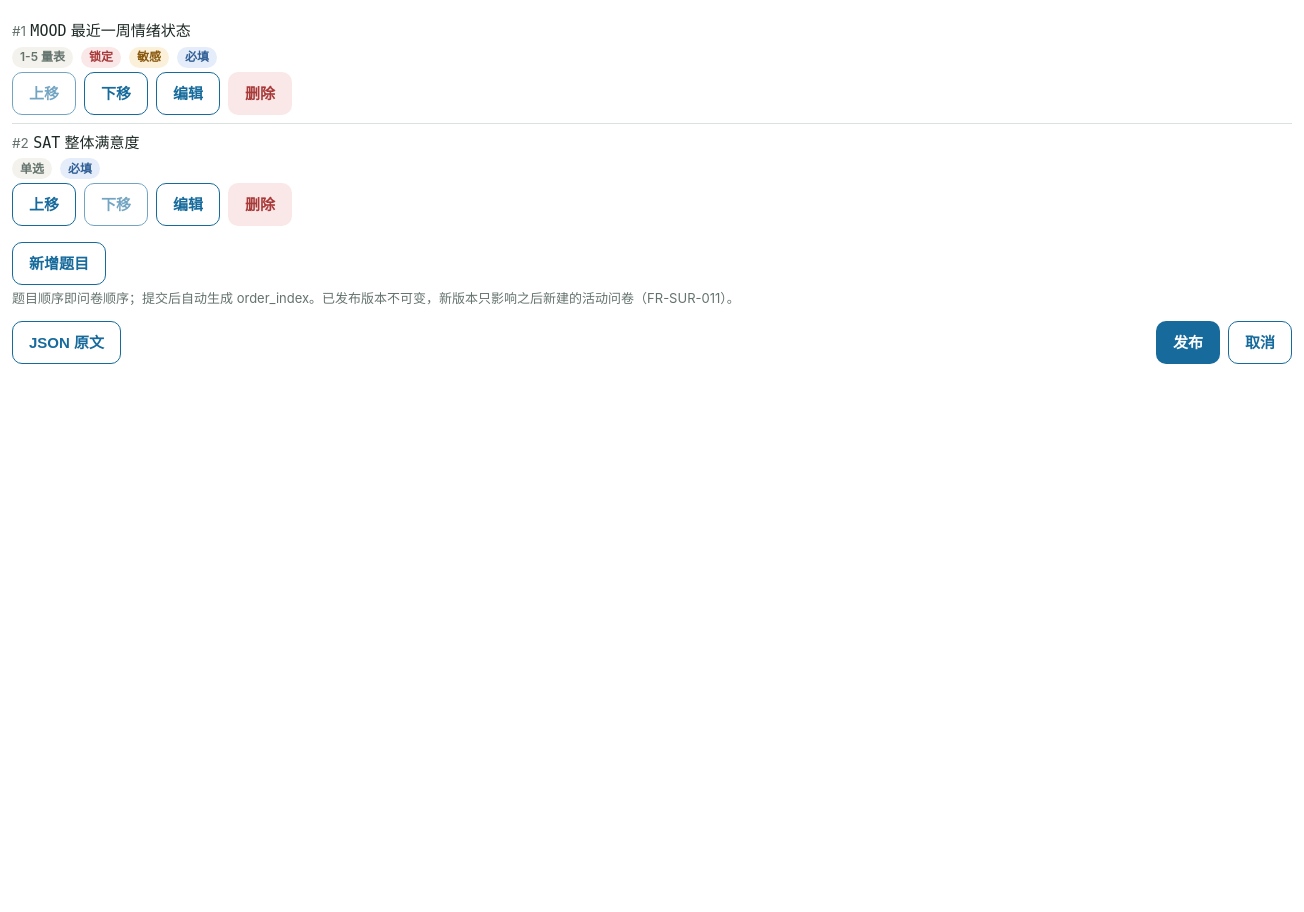
Test: TemplateSchemaEditor（可视化模板题目编辑器，FR-SUR-001/011） › 从已发布版本带入的题：question_code 与题型不可改
The image size is (1304, 912).
What coordinates should you click on to do the following:
click the button "编辑" below "MOOD"
I would click on:
 (188, 93)
Its box is 156,72 -> 220,115.
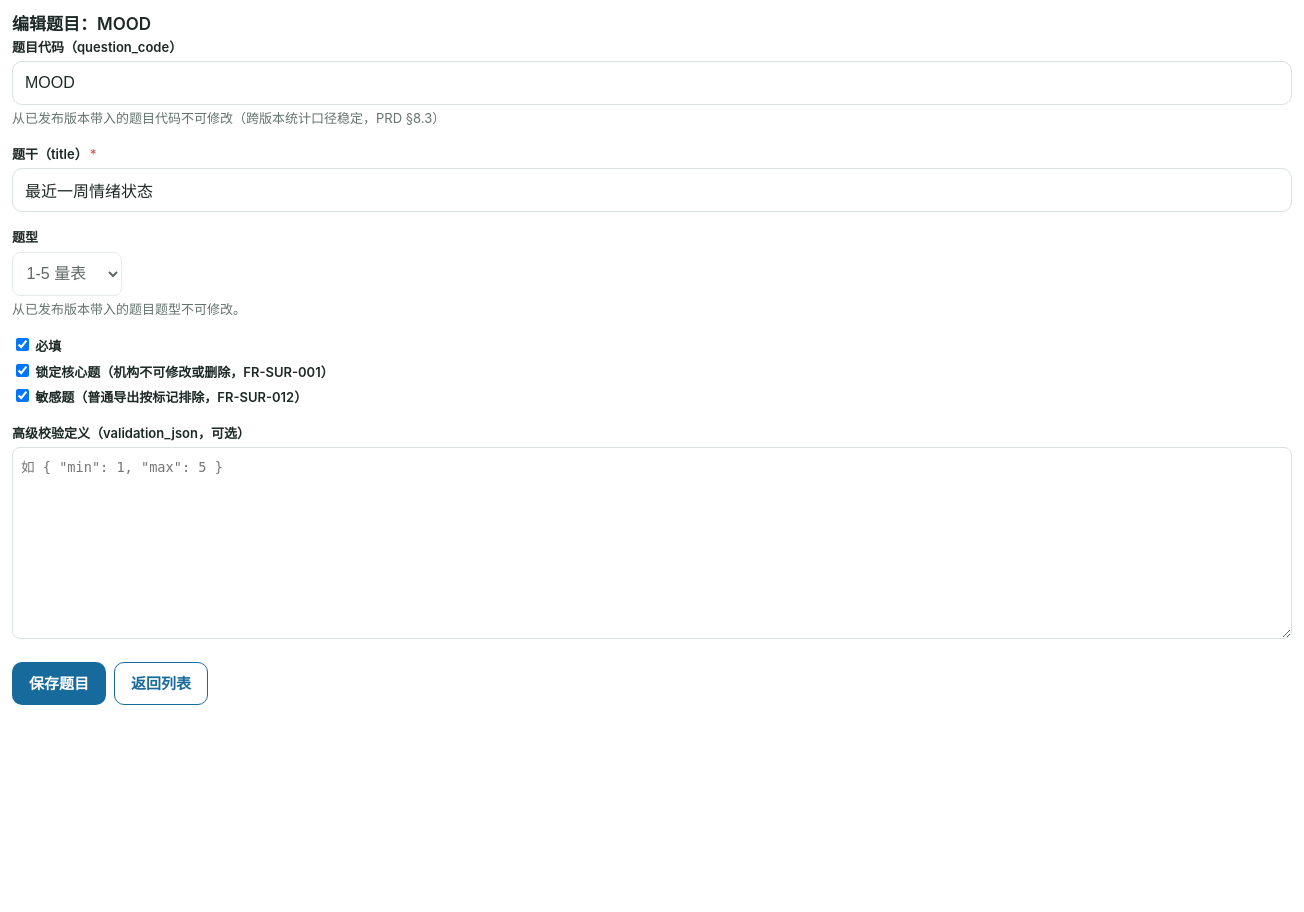
Result: the field labelled "题目代码（question_code）" is disabled at 12,61 -> 1292,105
Result: the dropdown labelled "题型" is disabled at 12,252 -> 122,296
